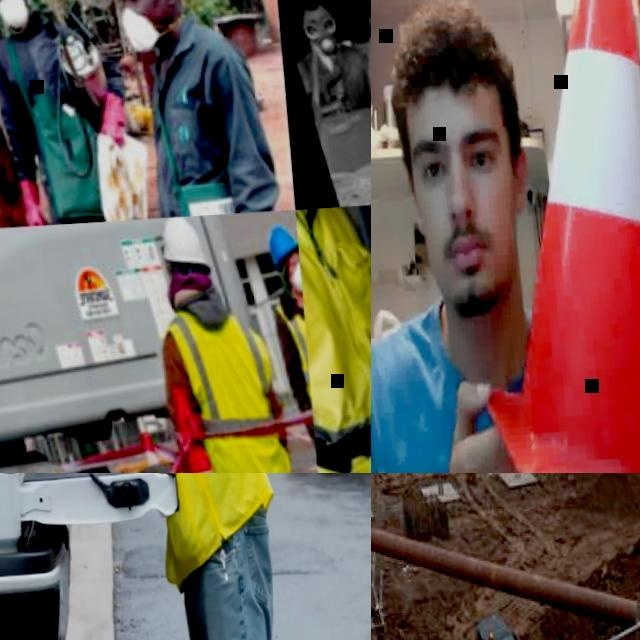Hardhat: (158, 211, 210, 273), (265, 223, 297, 268)
Mask: (117, 3, 162, 54), (0, 0, 30, 28), (312, 26, 338, 53), (287, 264, 300, 293)
NO-Hardhat: (388, 0, 507, 123), (298, 0, 326, 14)
NO-Mask: (423, 217, 512, 314)
NO-Safety Vest: (371, 316, 539, 473), (142, 8, 253, 214), (0, 16, 102, 227), (296, 40, 371, 169)
Person: (371, 0, 640, 473), (0, 473, 279, 640), (148, 207, 300, 473), (109, 0, 282, 216), (0, 0, 139, 229), (297, 194, 371, 473), (291, 0, 371, 178), (261, 222, 313, 443)
Safety Cone: (439, 0, 640, 473), (184, 442, 236, 473)
Safety Vest: (158, 303, 295, 473), (292, 201, 371, 473)
machinery: (460, 603, 587, 640)
vehicle: (0, 473, 193, 640)
